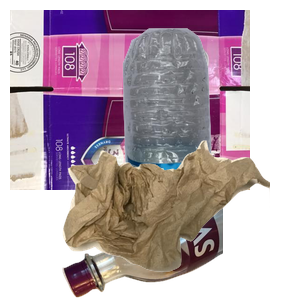cardboard: (10, 10, 250, 190)
glass: (60, 180, 300, 300)
plastic: (111, 26, 300, 206)
trash: (60, 138, 300, 300)
